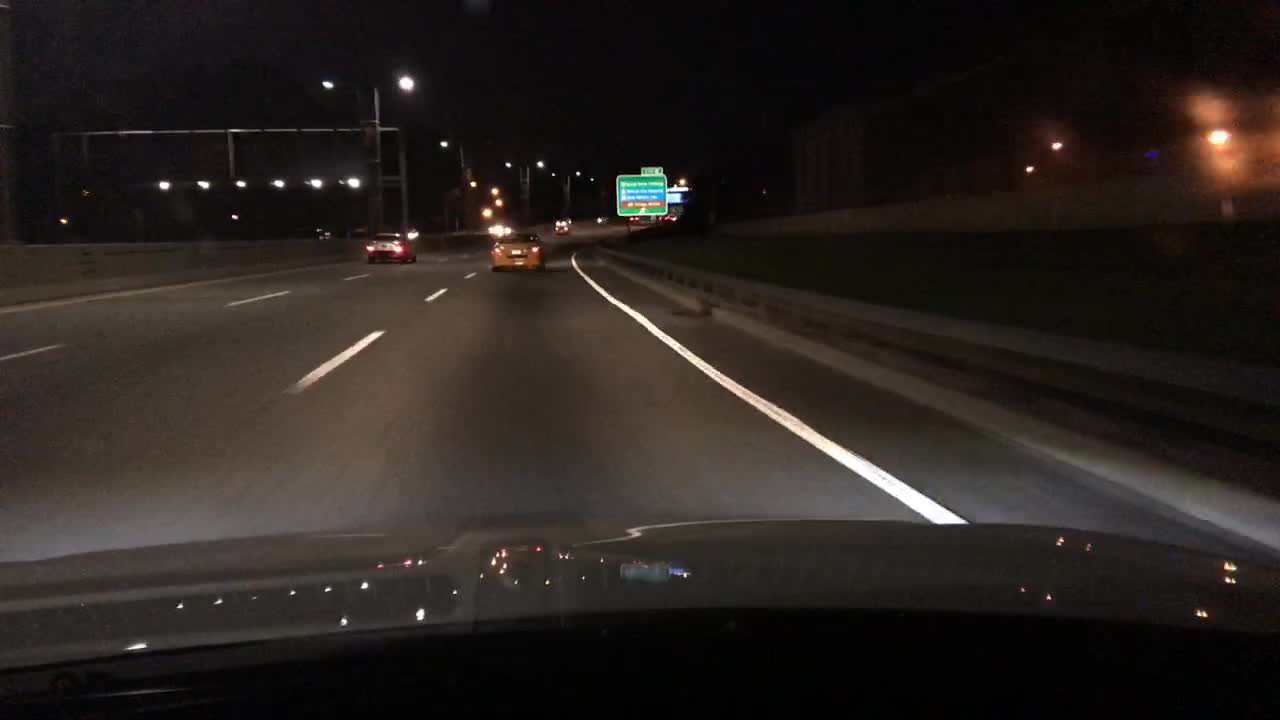car: (489, 230, 545, 272), (362, 230, 419, 263), (551, 218, 571, 234), (594, 215, 610, 225)
traffic sign: (614, 167, 668, 215)
